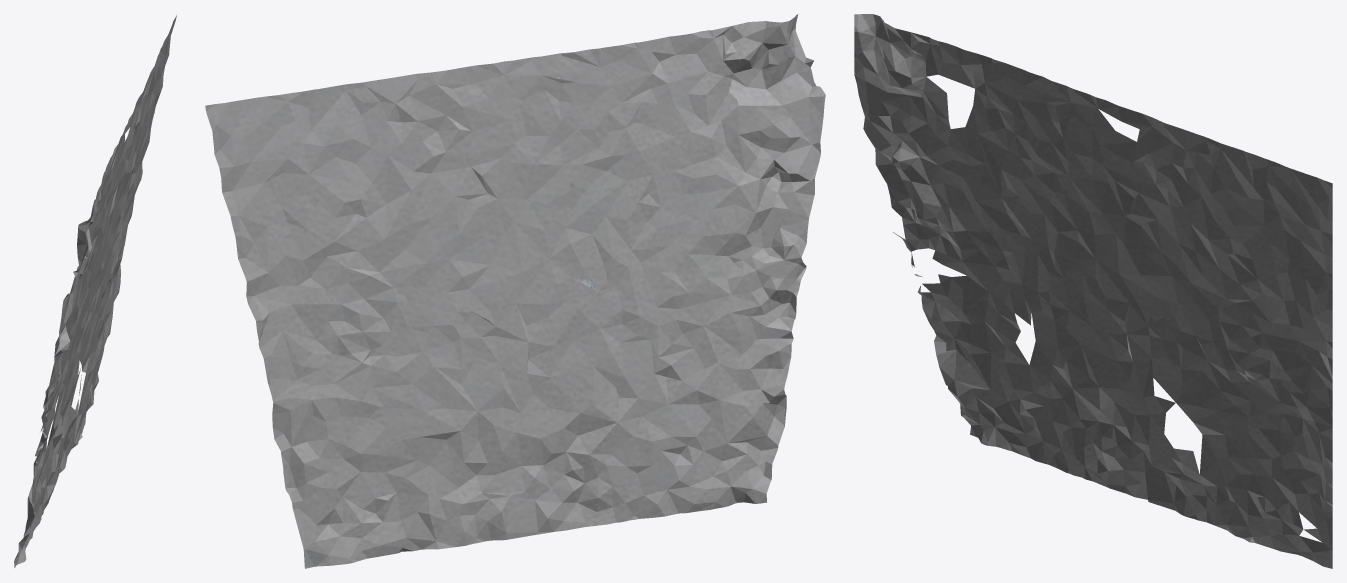
The picture shows the model from 3 angles, left to right: view 1: azimuth 30°, elevation 25°; view 2: azimuth 150°, elevation 25°; view 3: azimuth 270°, elevation 25°; orthographic projection. The views are drawn at different scales.
Bounding box in the file's own units: 0.7553 × 0.8374 × 0.8374.
3 materials, 3 textured.
